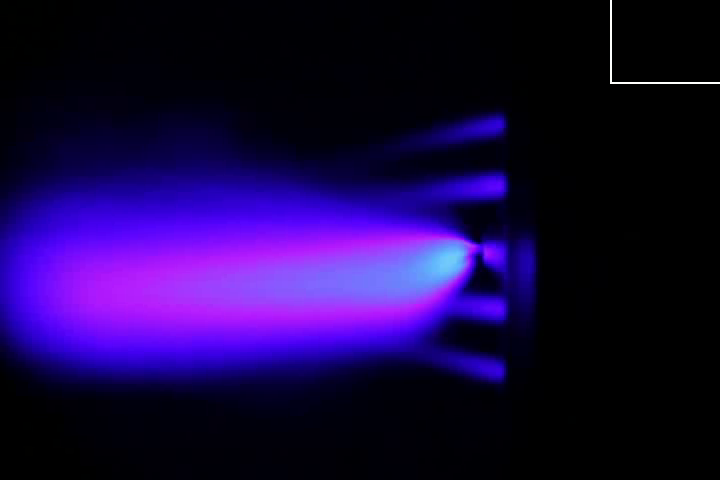burner cap: (479, 234, 507, 273)
pilot flame: (369, 112, 506, 150), (367, 169, 509, 205), (397, 338, 504, 383), (437, 294, 507, 325)
stable: (147, 229, 480, 306)
